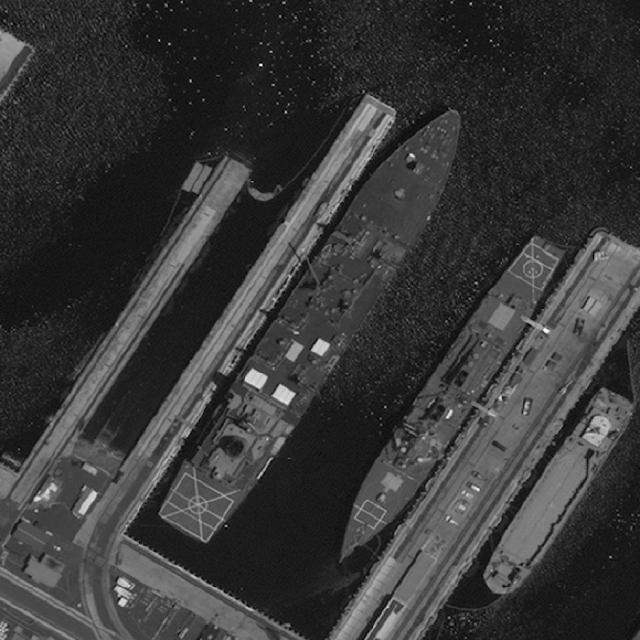Commander: (146, 86, 497, 557)
Destroyer: (319, 226, 569, 578)
Dock: (126, 88, 398, 479), (39, 154, 255, 457)
Other Ship: (475, 384, 637, 606)
